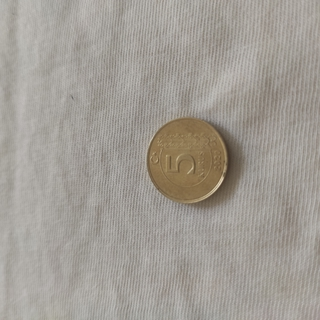5KURUS: (144, 114, 230, 206)
